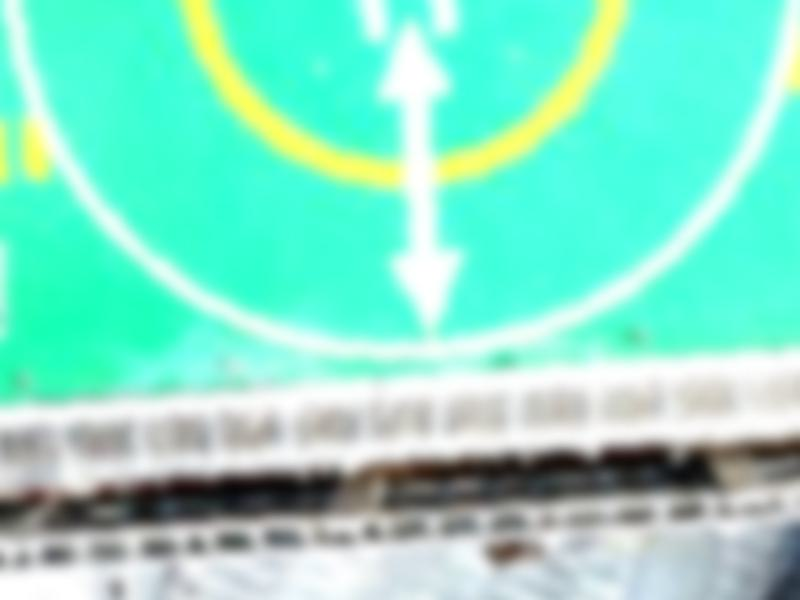Apron: (172, 3, 628, 186)
